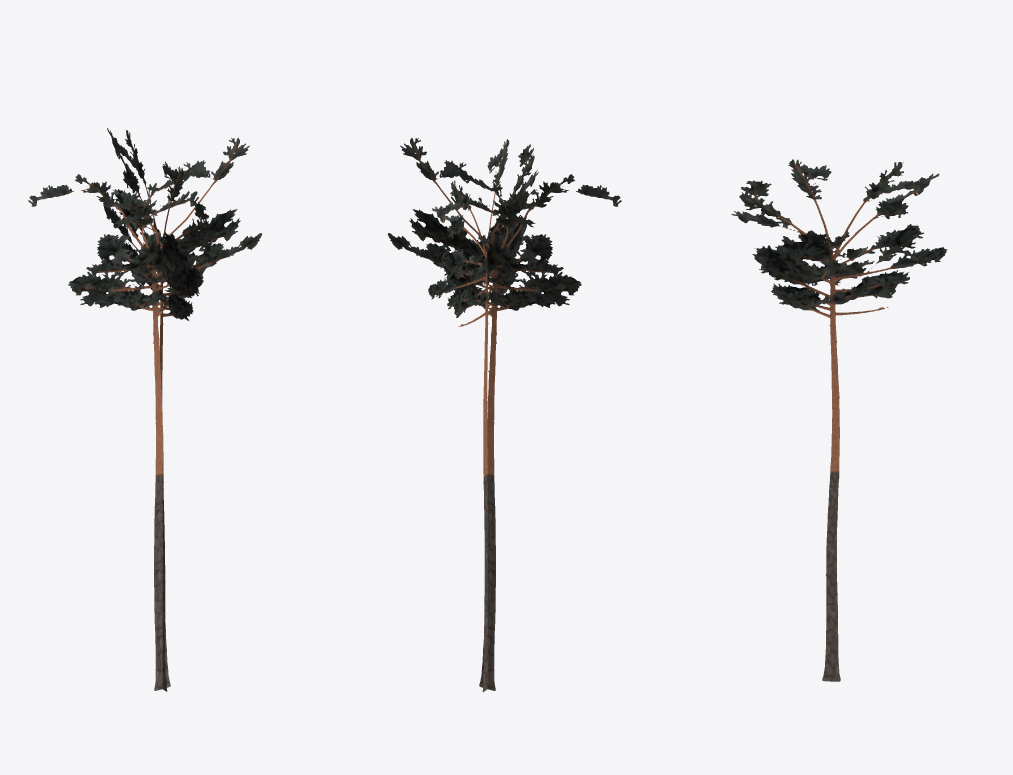
Rendered from pine_c_LOD2_billboard.fbx.
3 views of the same model, side by side, from view 1: azimuth 30°, elevation 25°; view 2: azimuth 150°, elevation 25°; view 3: azimuth 270°, elevation 25° (orthographic). The views are drawn at different scales.
Visible parts, largest first — view 1: Pine_C_LOD2_Billboard; view 2: Pine_C_LOD2_Billboard; view 3: Pine_C_LOD2_Billboard.
Boxes of the visible parts, x1,y1,x2,y2 form: Pine_C_LOD2_Billboard: (28,128,261,691); Pine_C_LOD2_Billboard: (388,137,621,692); Pine_C_LOD2_Billboard: (731,159,947,681).
Size of the model in its own units: 12.87 by 25.73 by 12.87.
Materials: 1 (1 with a texture image).
